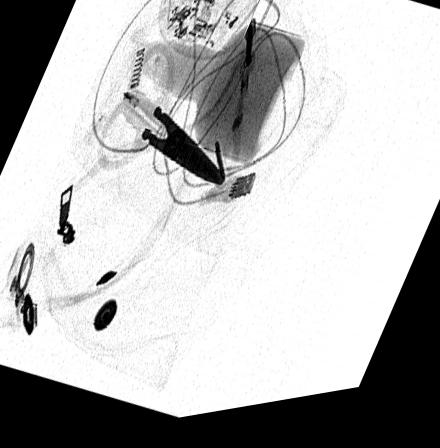Scissors: (92, 41, 232, 200)
